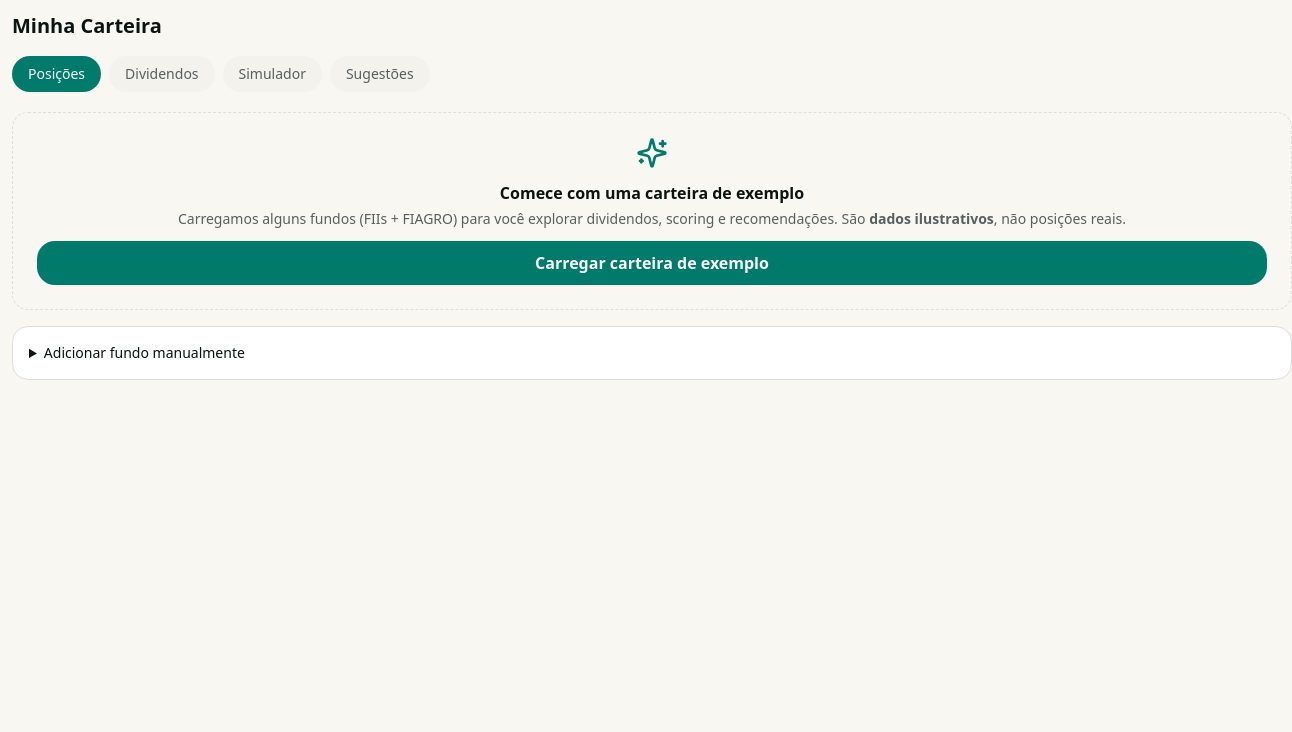
Test: CarteiraPage abas › troca para a aba Dividendos e mostra a renda mensal
expect the button "Carregar carteira de exemplo" is shown: met, box [37,241,1267,285]
Click the tab "Dividendos".
click(162, 74)  # box [109,56,215,92]
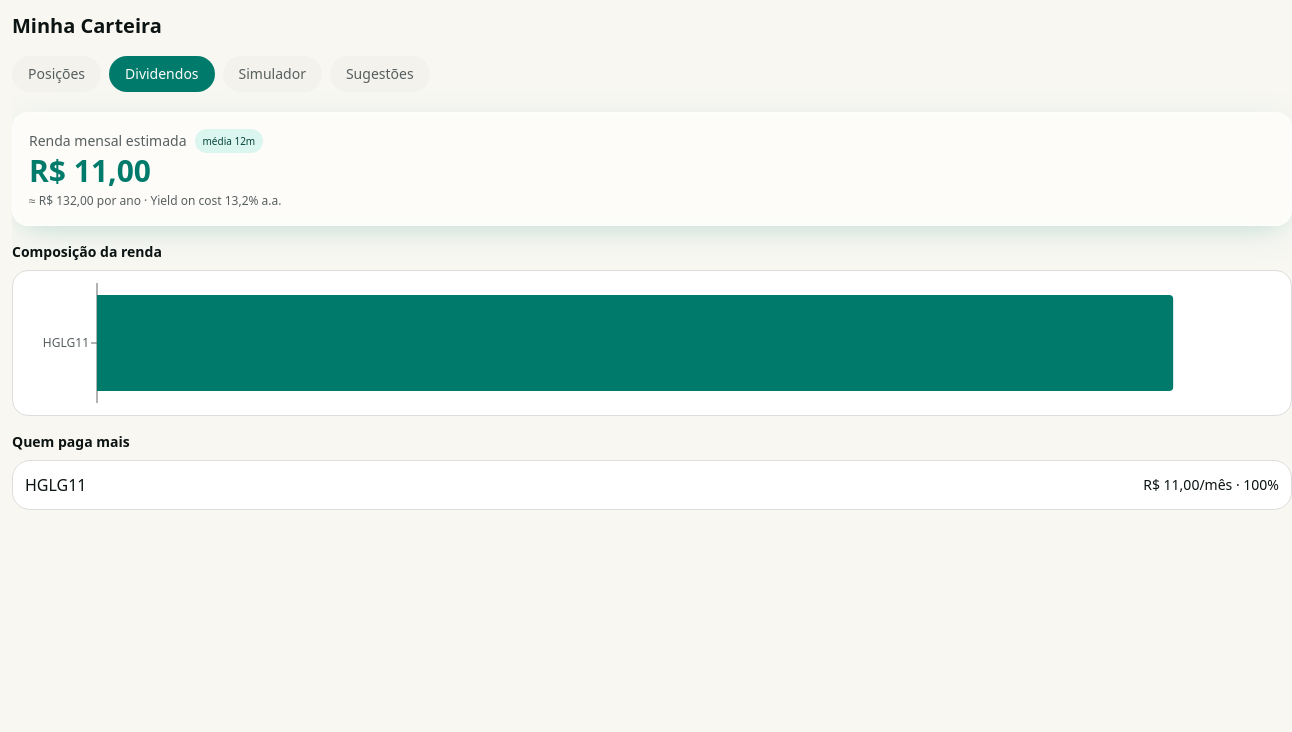
expect the text "Renda mensal estimada média 12m" is shown: met, box [29,129,263,153]
